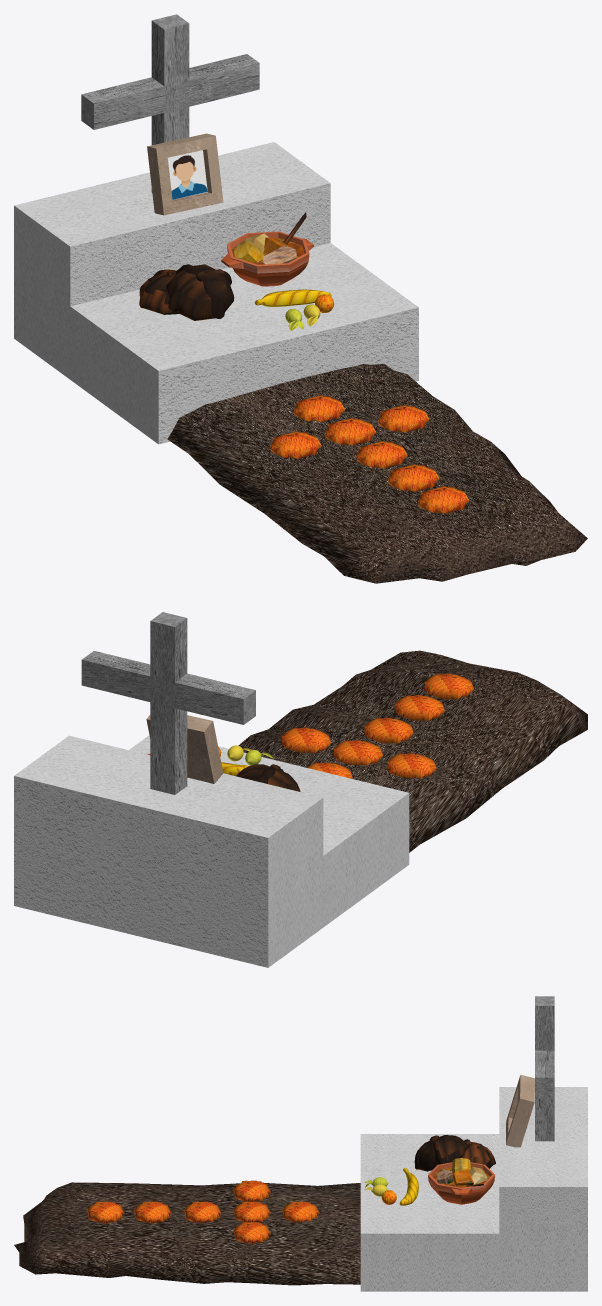
The model's file is tumba4.obj.
3 renders of one model, top to bottom at view 1: azimuth 30°, elevation 25°; view 2: azimuth 150°, elevation 25°; view 3: azimuth 270°, elevation 25°, orthographic. The views are drawn at different scales.
Parts seen in each view (by area): view 1: Cube.002; view 2: Cube.002; view 3: Cube.002.
Part boxes in pixels (x1=…): Cube.002: x1=14, y1=14, x2=587, y2=583; Cube.002: x1=14, y1=612, x2=587, y2=967; Cube.002: x1=14, y1=996, x2=587, y2=1291.
Size of the model in its own units: 1.98 by 2.22 by 4.82.
20 materials, 20 textured.
